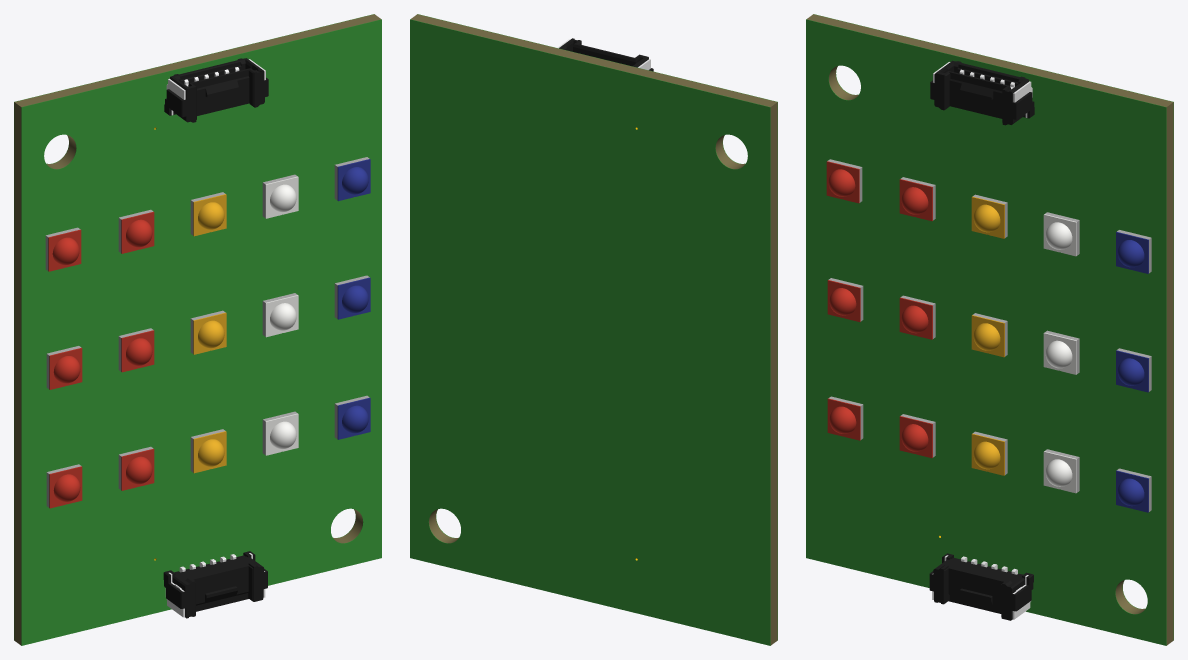
The model's file is lighting_led_brd.fbx.
3 renders of one model, left to right at view 1: azimuth 30°, elevation 25°; view 2: azimuth 150°, elevation 25°; view 3: azimuth 330°, elevation 25°, orthographic.
Visible parts, largest first — view 1: Body1 (×2), Body2 (×15), Body3 (×15), Body15 (×2), Board; view 2: Body1 (×2), Board, Body15; view 3: Body1 (×2), Body2 (×15), Body3 (×15), Body15 (×2), Board.
Boxes of the visible parts, x1=… form: Body1 (×2): x1=14, y1=14, x2=381, y2=645; Body2 (×15): x1=48, y1=159, x2=370, y2=508; Body3 (×15): x1=52, y1=167, x2=368, y2=501; Body15 (×2): x1=163, y1=58, x2=268, y2=618; Board: x1=14, y1=14, x2=380, y2=645; Body1 (×2): x1=410, y1=14, x2=777, y2=645; Board: x1=411, y1=14, x2=777, y2=645; Body15: x1=559, y1=38, x2=653, y2=71; Body1 (×2): x1=806, y1=14, x2=1173, y2=645; Body2 (×15): x1=826, y1=161, x2=1148, y2=512; Body3 (×15): x1=828, y1=169, x2=1144, y2=506; Body15 (×2): x1=929, y1=60, x2=1034, y2=620; Board: x1=807, y1=14, x2=1173, y2=645.
Size of the model in its own units: 4.44 by 6.35 by 0.5505.
